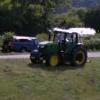Tractor: (21, 27, 96, 77)
